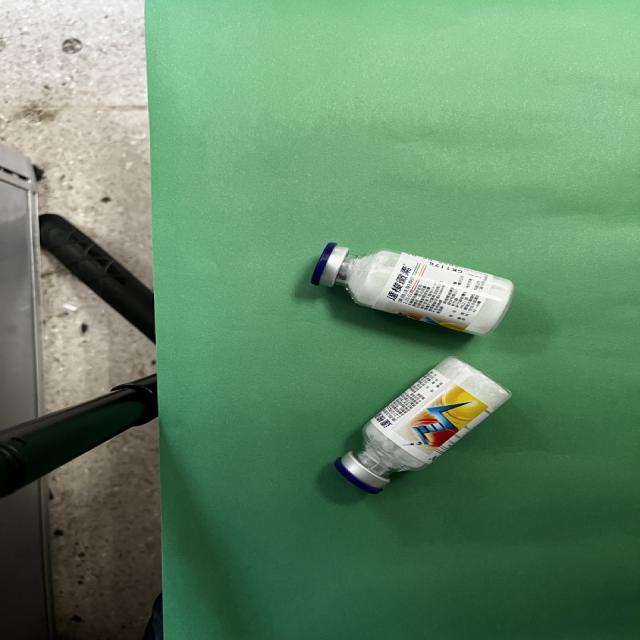Vials: (335, 357, 510, 494), (311, 242, 513, 334)
